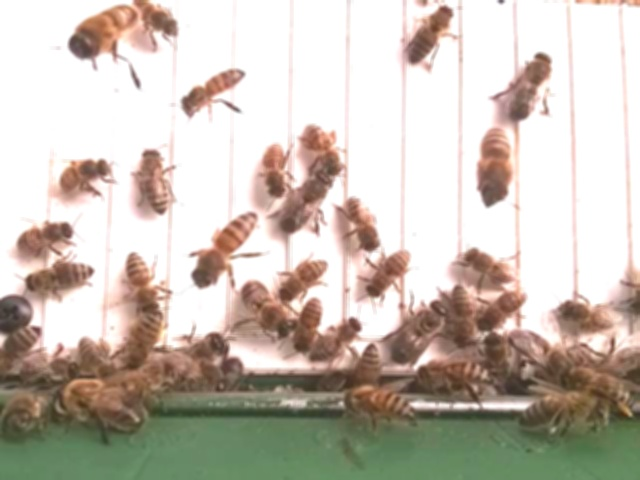Drone: (388, 297, 450, 367), (506, 326, 576, 385), (238, 275, 298, 338), (279, 169, 333, 236), (508, 48, 555, 124)
Worker: (194, 210, 258, 288), (182, 65, 248, 113), (407, 3, 457, 61), (24, 257, 97, 292), (414, 357, 493, 389), (303, 120, 346, 178), (481, 125, 513, 202), (461, 247, 525, 285), (364, 246, 411, 297), (126, 311, 166, 370), (139, 146, 173, 215), (346, 386, 417, 419), (14, 219, 74, 258), (314, 315, 366, 360), (278, 256, 331, 300), (51, 155, 114, 192), (343, 194, 382, 253), (125, 249, 160, 308), (482, 287, 527, 332), (558, 298, 617, 332), (130, 0, 182, 35), (294, 295, 324, 354), (449, 282, 475, 346), (354, 343, 383, 399), (261, 139, 288, 199)
